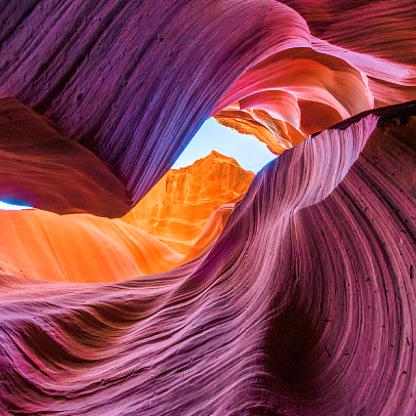Sedimentary_Sandstone: (229, 106, 415, 415), (1, 0, 216, 206), (1, 255, 212, 415)
